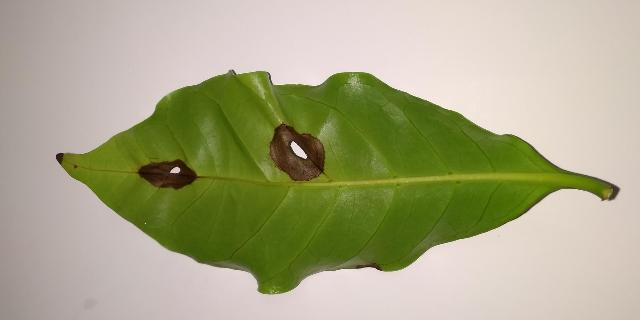rust: (270, 123, 325, 181), (138, 159, 198, 189), (356, 262, 381, 271), (56, 153, 63, 163)
